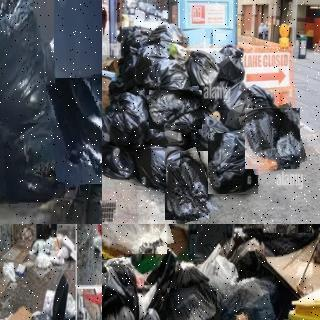Garbage: (0, 0, 54, 123), (3, 119, 78, 203), (50, 75, 102, 186), (242, 105, 304, 172), (160, 149, 214, 223), (208, 133, 258, 194), (216, 276, 275, 320), (148, 88, 204, 131), (138, 40, 185, 91), (102, 224, 170, 258), (103, 92, 149, 142), (102, 257, 138, 320), (117, 25, 151, 89), (135, 143, 181, 190), (164, 284, 219, 320), (217, 82, 251, 129), (185, 50, 218, 85), (244, 83, 277, 118), (219, 43, 243, 83)
